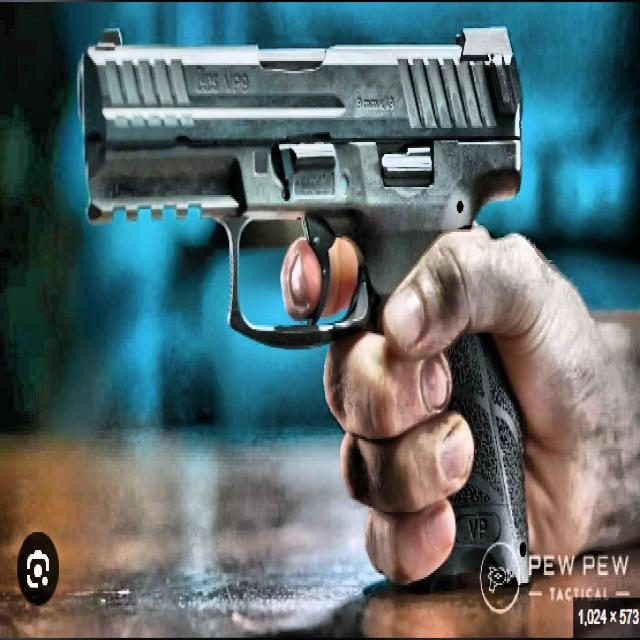HKVP9: (77, 22, 537, 567)
